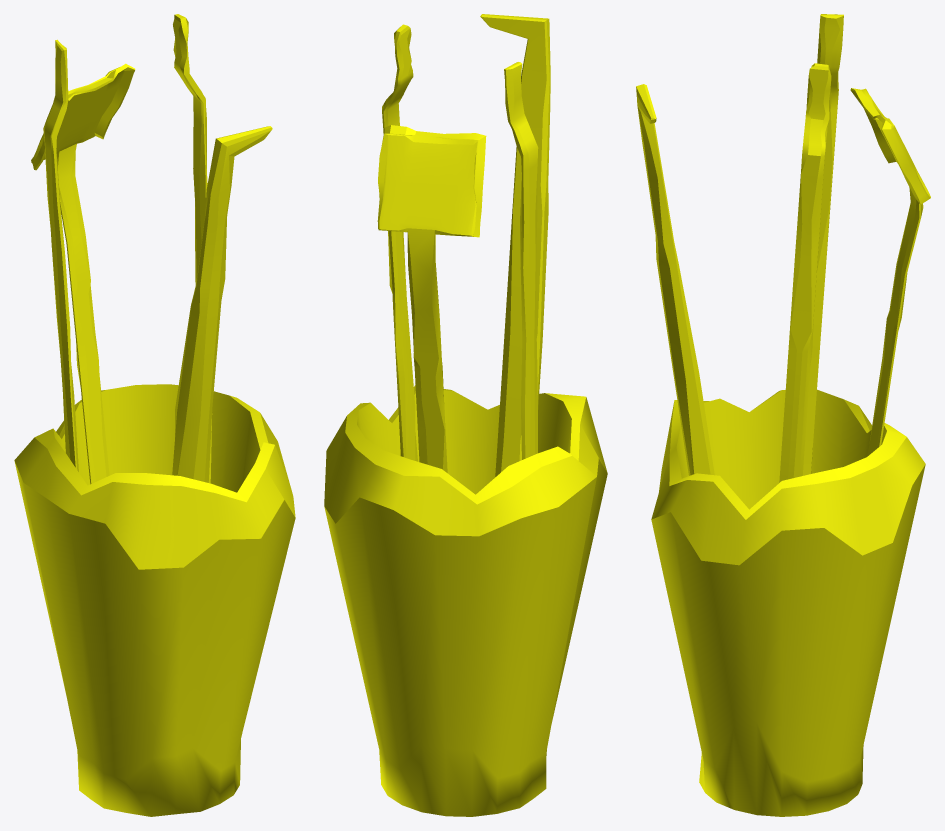
The model's file is outils cheminee complet.fbx.
The picture shows the model from 3 angles, left to right: view 1: azimuth 30°, elevation 25°; view 2: azimuth 150°, elevation 25°; view 3: azimuth 270°, elevation 25°; orthographic projection. The views are drawn at different scales.
Visible parts, largest first — view 1: outils_cheminee; view 2: outils_cheminee; view 3: outils_cheminee.
Boxes of the visible parts, left/top/right/bottom form: outils_cheminee: left=14, top=14, right=295, bottom=816; outils_cheminee: left=324, top=14, right=607, bottom=816; outils_cheminee: left=636, top=14, right=930, bottom=816.
Size of the model in its own units: 2.56 by 7.75 by 2.8.
